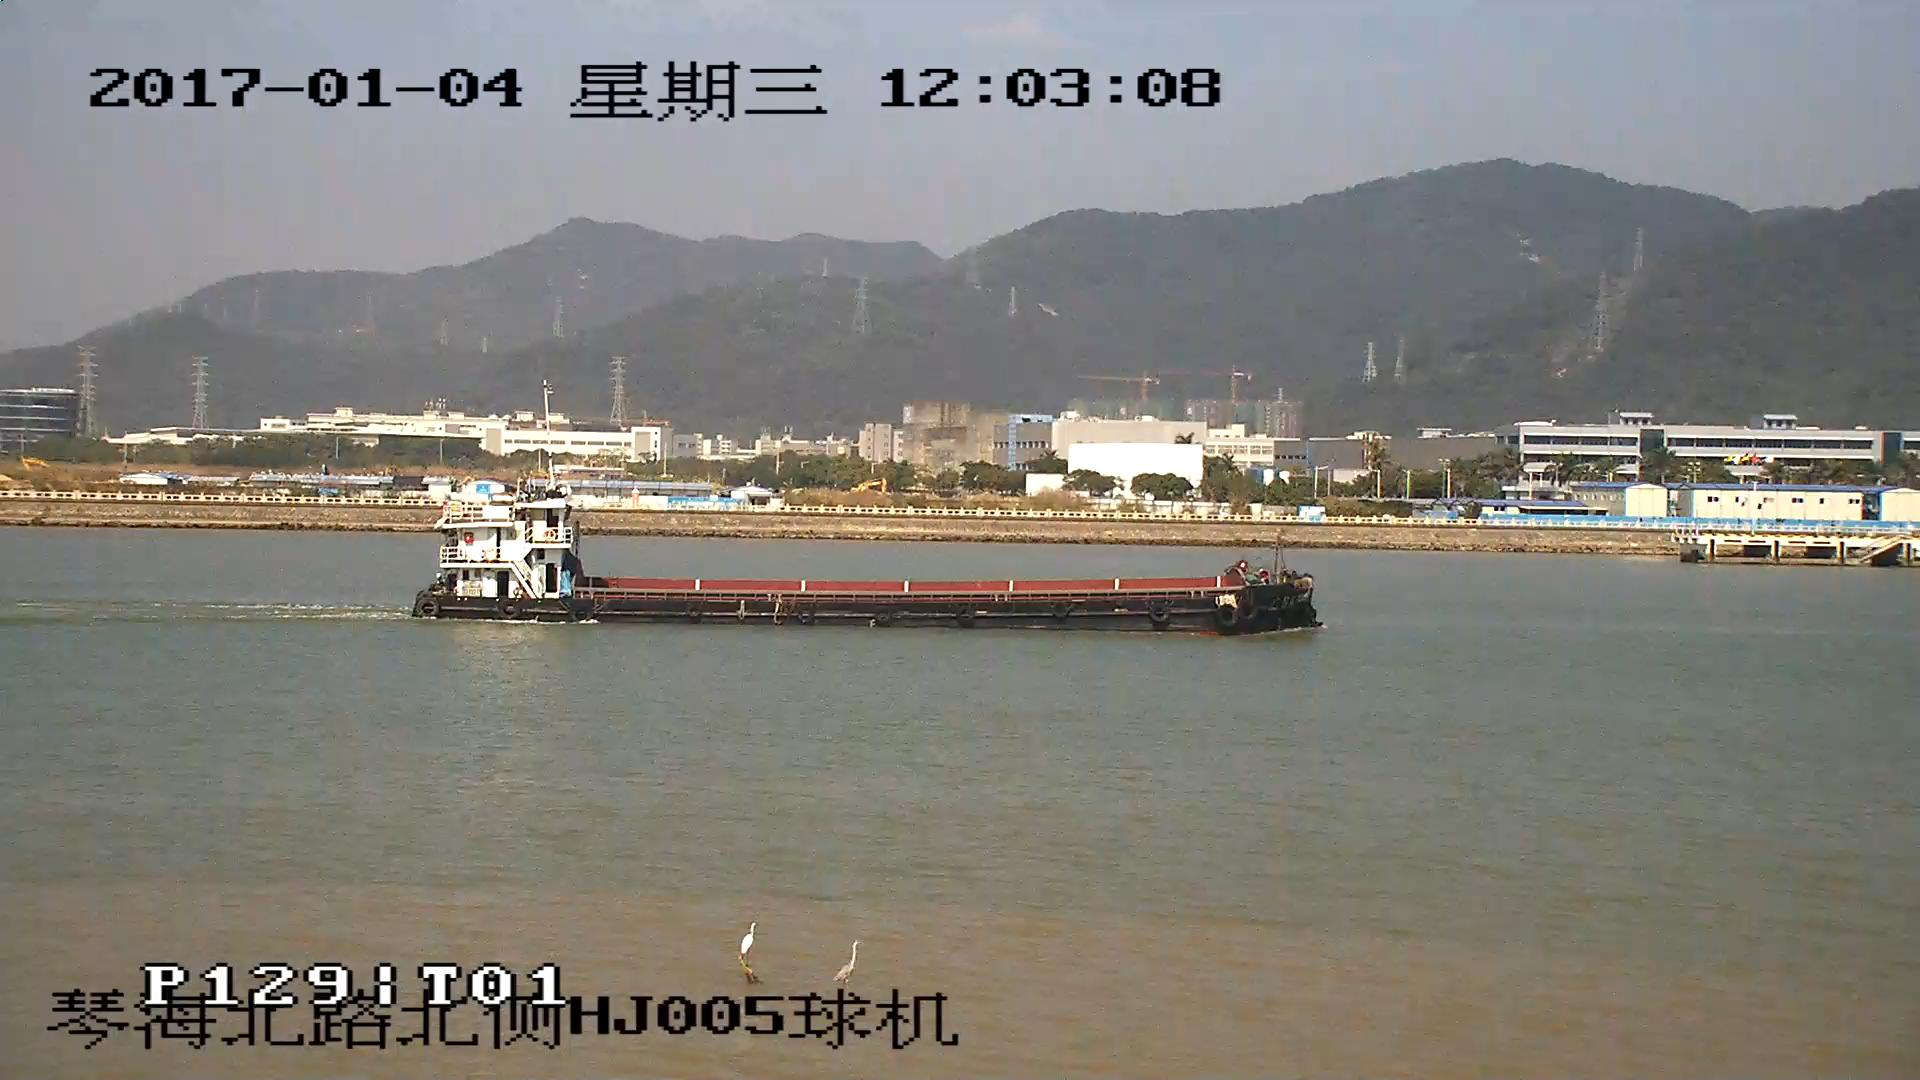general cargo ship: (408, 499, 1319, 637)
